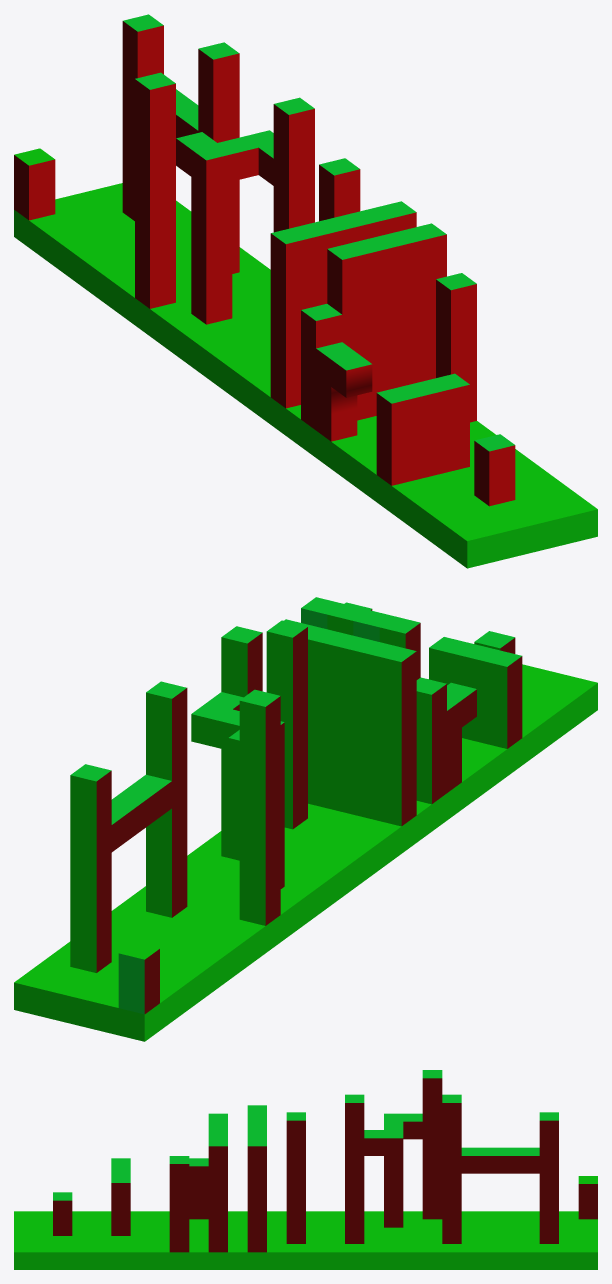
The model's file is Level1.obj.
3 views of the same model, one above another, from view 1: azimuth 30°, elevation 25°; view 2: azimuth 150°, elevation 25°; view 3: azimuth 270°, elevation 25° (orthographic). The views are drawn at different scales.
Parts seen in each view (by area): view 1: INSTAKILL_BASE.001_INSTAKILL, SAFEGROUND_BASE.001_SAFEGROUND, INSTAKILL_SIDES.001_SideDarkerINSTAKILL, SAFEGROUND_TOP.001_LighterTopColorSAFEGROUND; view 2: SAFEGROUND_BASE.001_SAFEGROUND, INSTAKILL_SIDES.001_SideDarkerINSTAKILL, SAFEGROUND_TOP.001_LighterTopColorSAFEGROUND; view 3: SAFEGROUND_BASE.001_SAFEGROUND, INSTAKILL_SIDES.001_SideDarkerINSTAKILL, SAFEGROUND_TOP.001_LighterTopColorSAFEGROUND.
Boxes of the visible parts, <box> form: INSTAKILL_BASE.001_INSTAKILL: <box>29,25,515,506</box>; SAFEGROUND_BASE.001_SAFEGROUND: <box>14,148,597,568</box>; INSTAKILL_SIDES.001_SideDarkerINSTAKILL: <box>14,21,489,505</box>; SAFEGROUND_TOP.001_LighterTopColorSAFEGROUND: <box>123,14,514,451</box>; SAFEGROUND_BASE.001_SAFEGROUND: <box>14,614,597,1041</box>; INSTAKILL_SIDES.001_SideDarkerINSTAKILL: <box>96,609,522,1013</box>; SAFEGROUND_TOP.001_LighterTopColorSAFEGROUND: <box>70,597,521,1014</box>; SAFEGROUND_BASE.001_SAFEGROUND: <box>14,1176,597,1269</box>; INSTAKILL_SIDES.001_SideDarkerINSTAKILL: <box>53,1078,597,1252</box>; SAFEGROUND_TOP.001_LighterTopColorSAFEGROUND: <box>53,1070,558,1200</box>.
Size of the model in its own units: 5 by 9 by 30.
